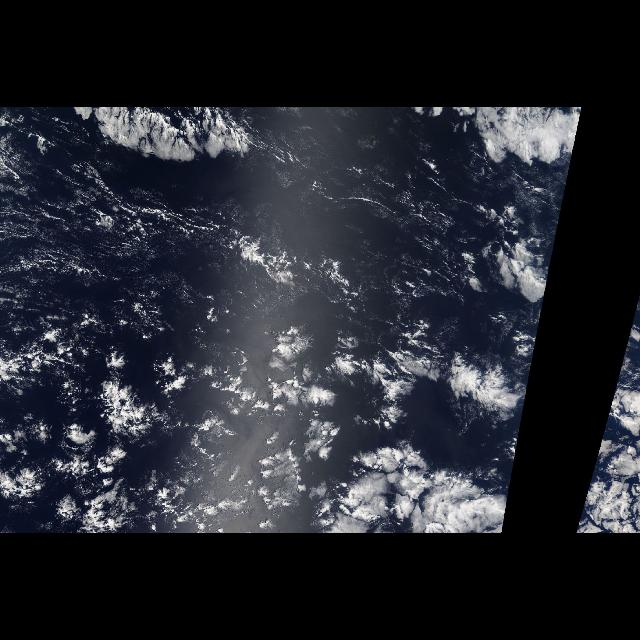Flower: (2, 312, 536, 532)
Sugar: (0, 132, 186, 344)
